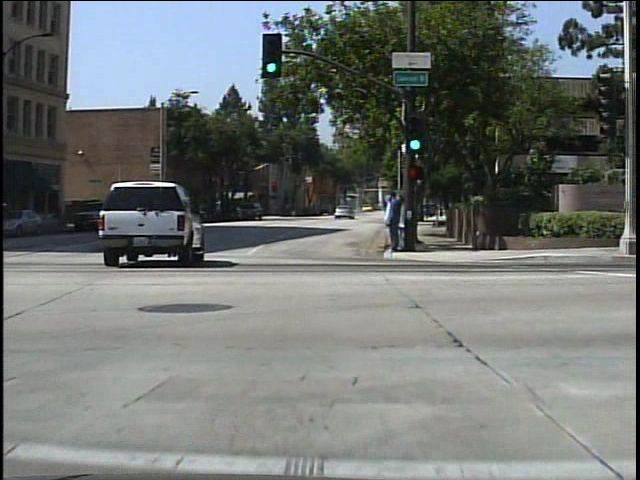person: (382, 187, 404, 255), (383, 193, 401, 253)
